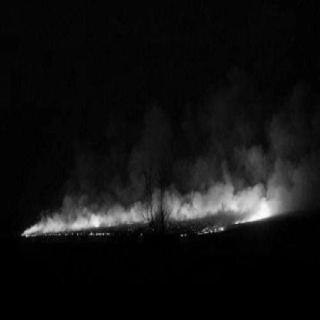Fire: (220, 199, 273, 231), (80, 213, 104, 234)
